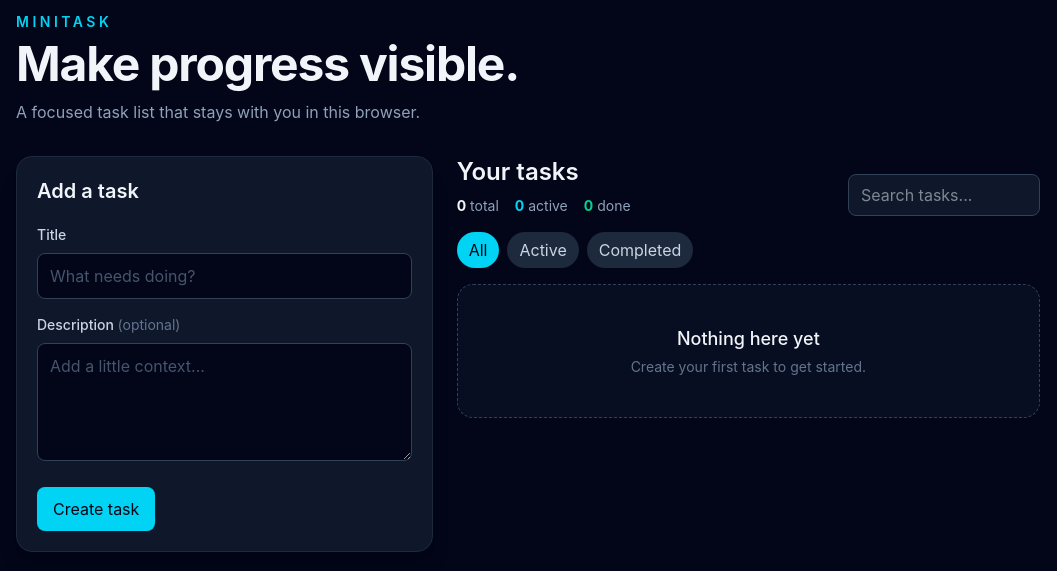
Test: MiniTask workflows › edits, completes, reopens, and deletes a task after confirmation
The width and height of the screenshot is (1057, 571).
In the field labelled "Title": (224, 276) top-left (37, 253), bottom-right (412, 299), type "Draft"
Click the button "Create task": (96, 509) top-left (37, 487), bottom-right (155, 531)
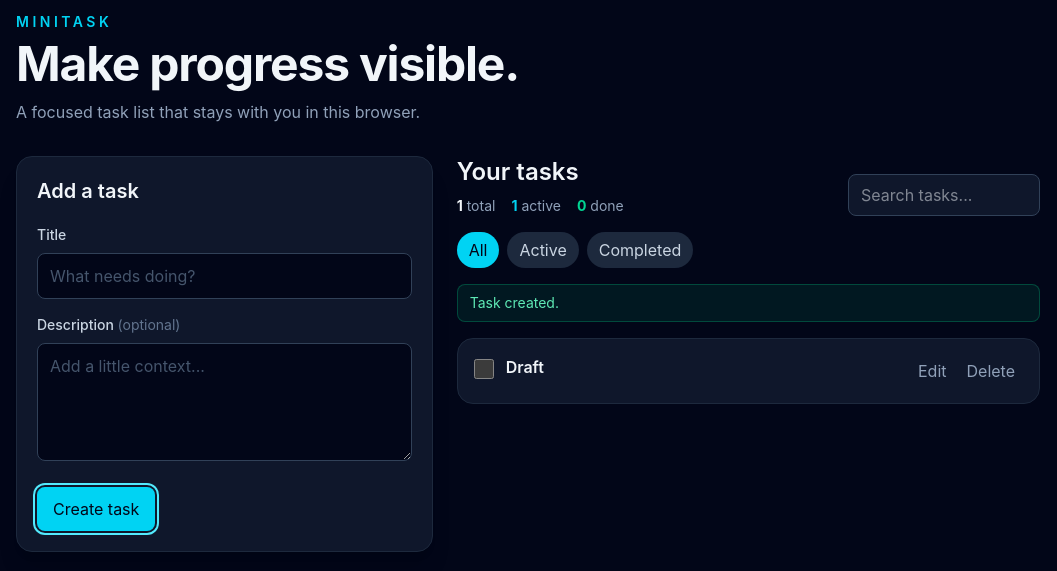
Click the button with aria-label "Edit Draft": (932, 371) top-left (910, 355), bottom-right (954, 387)
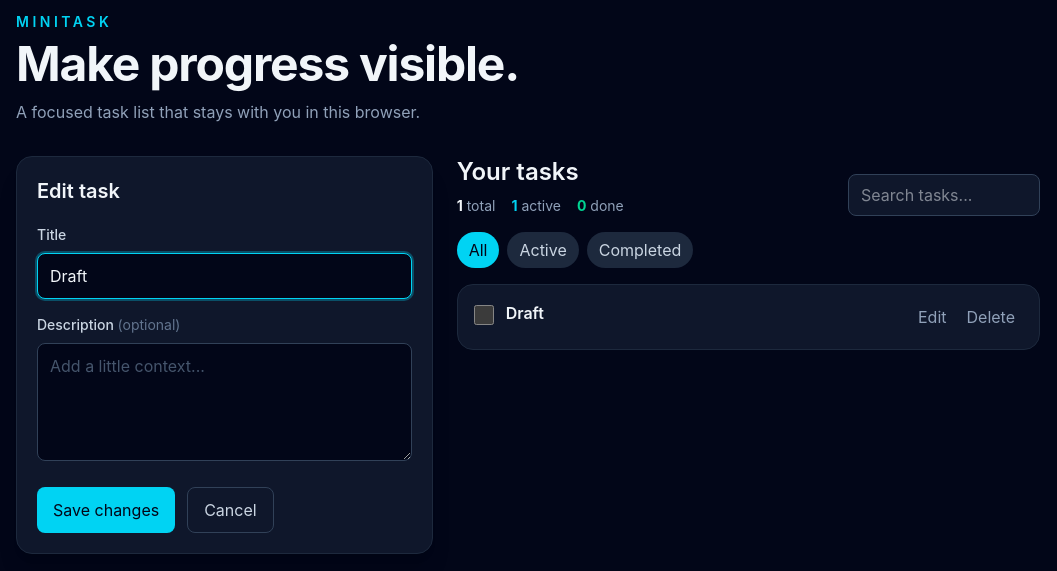
Replace the text in the field labelled "Title" with "Published": (224, 276) top-left (37, 253), bottom-right (412, 299)
Click the button "Save changes": (106, 510) top-left (37, 487), bottom-right (175, 533)
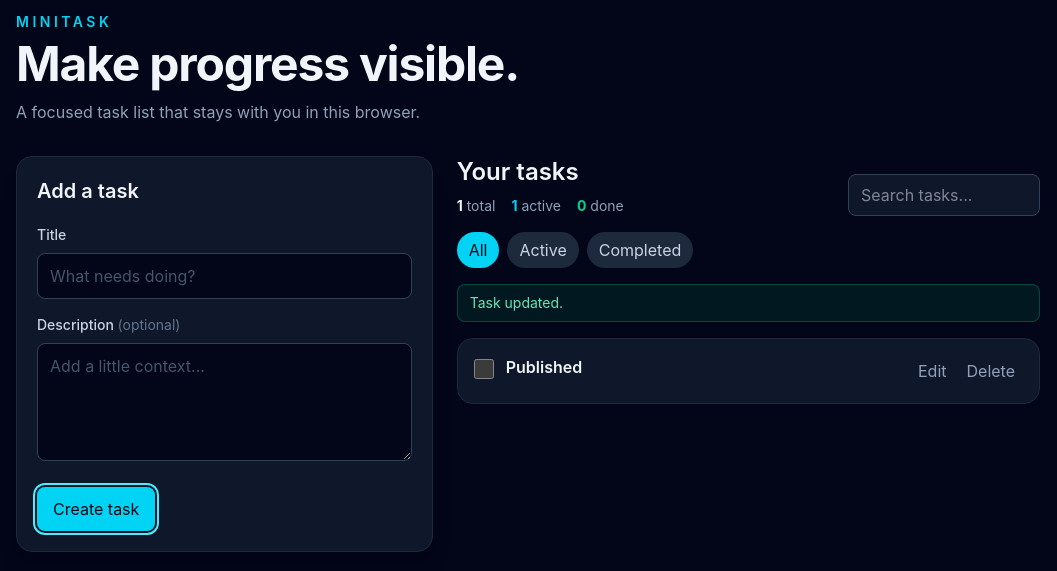
Expected: the heading "Published" is shown, top-left (506, 357), bottom-right (582, 377)
Click the checkbox named "Mark Published as completed": (484, 369) top-left (474, 359), bottom-right (494, 379)
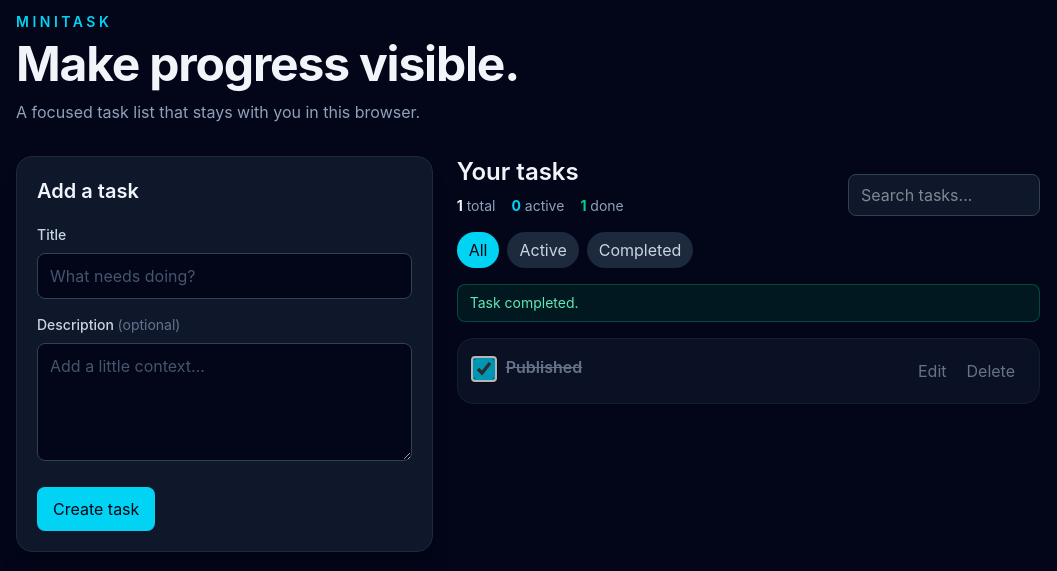
Expected: the text "Task completed." is shown, top-left (457, 284), bottom-right (1040, 322)
Click the checkbox named "Mark Published as active": (484, 369) top-left (474, 359), bottom-right (494, 379)
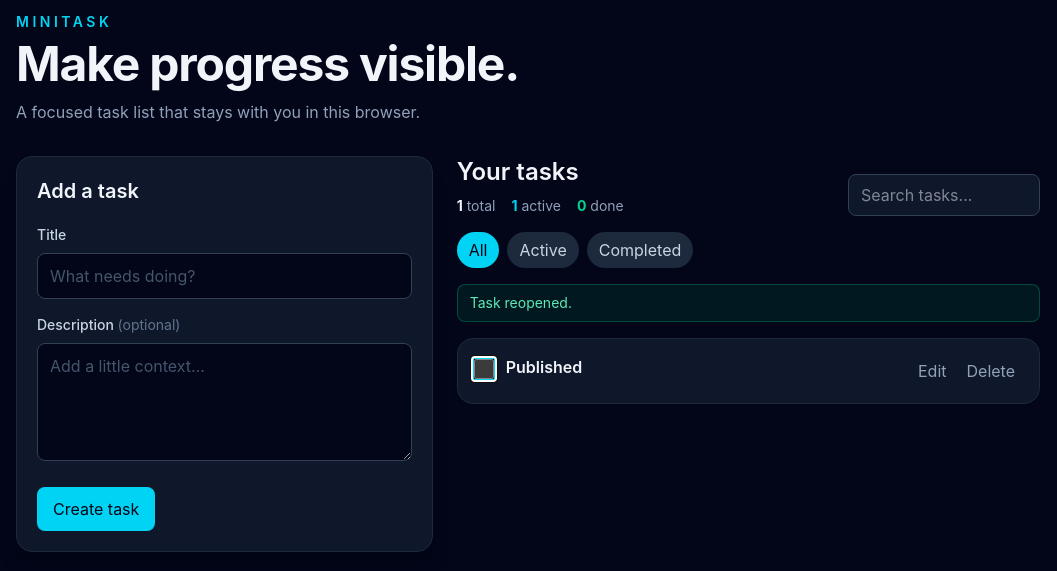
Click the button with aria-label "Delete Published": (991, 371) top-left (958, 355), bottom-right (1023, 387)
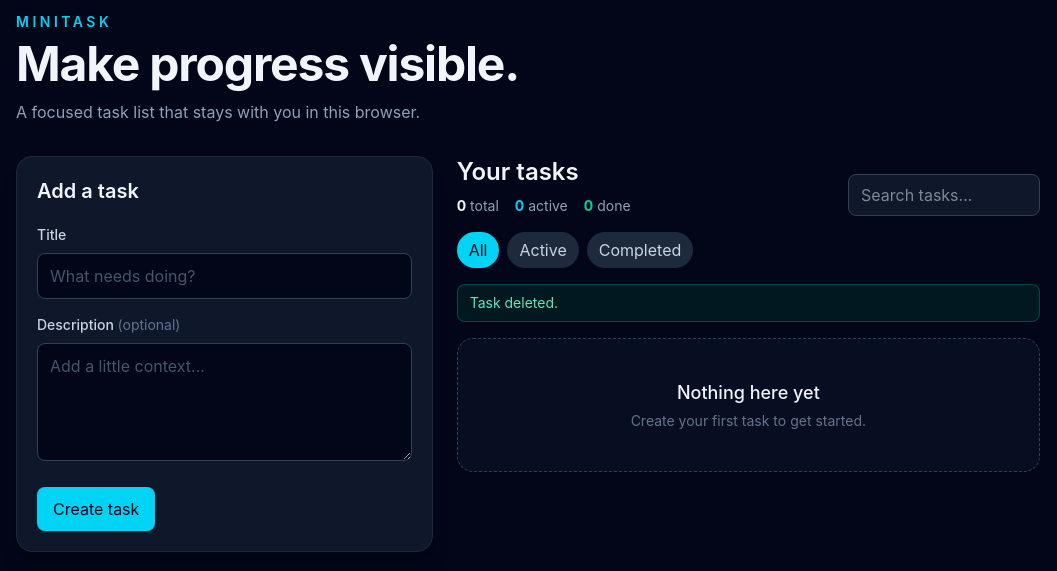
Expected: the heading "Published" is gone
